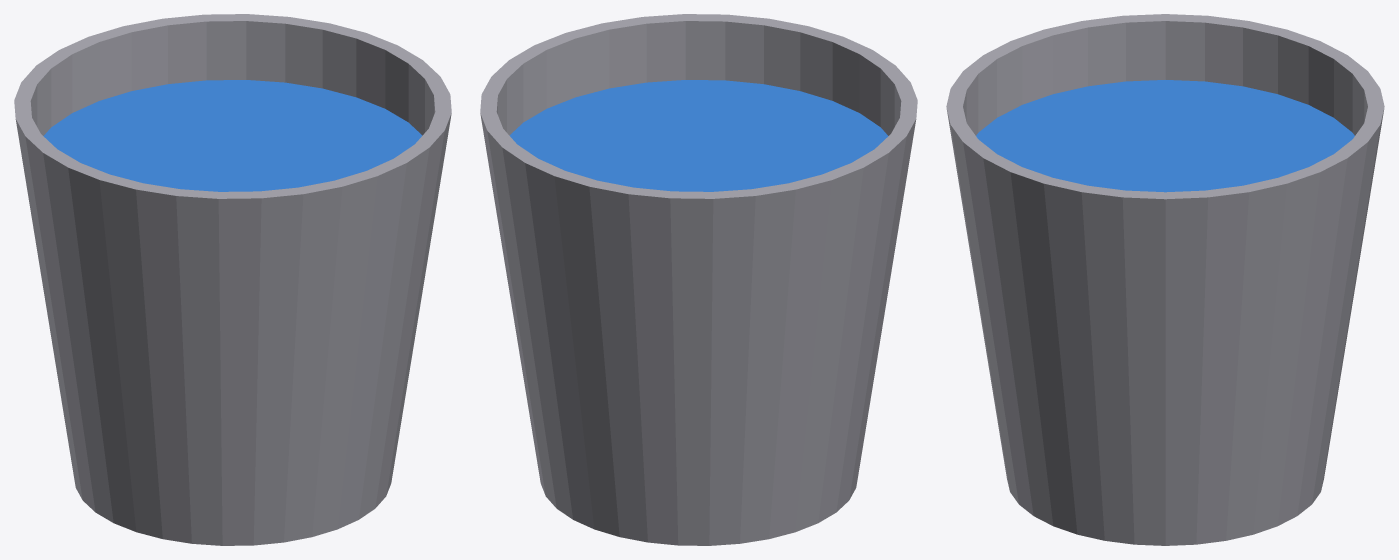
File: Bucket.fbx
3 views of the same model, side by side, from view 1: azimuth 30°, elevation 25°; view 2: azimuth 150°, elevation 25°; view 3: azimuth 270°, elevation 25° (orthographic).
Visible parts, largest first — view 1: Cylinder; view 2: Cylinder; view 3: Cylinder.
Boxes of the visible parts, x1,y1,x2,y2 form: Cylinder: [14, 14, 451, 545]; Cylinder: [480, 14, 917, 545]; Cylinder: [946, 14, 1384, 545].
Bounding box in the file's own units: 48 × 45 × 48.
